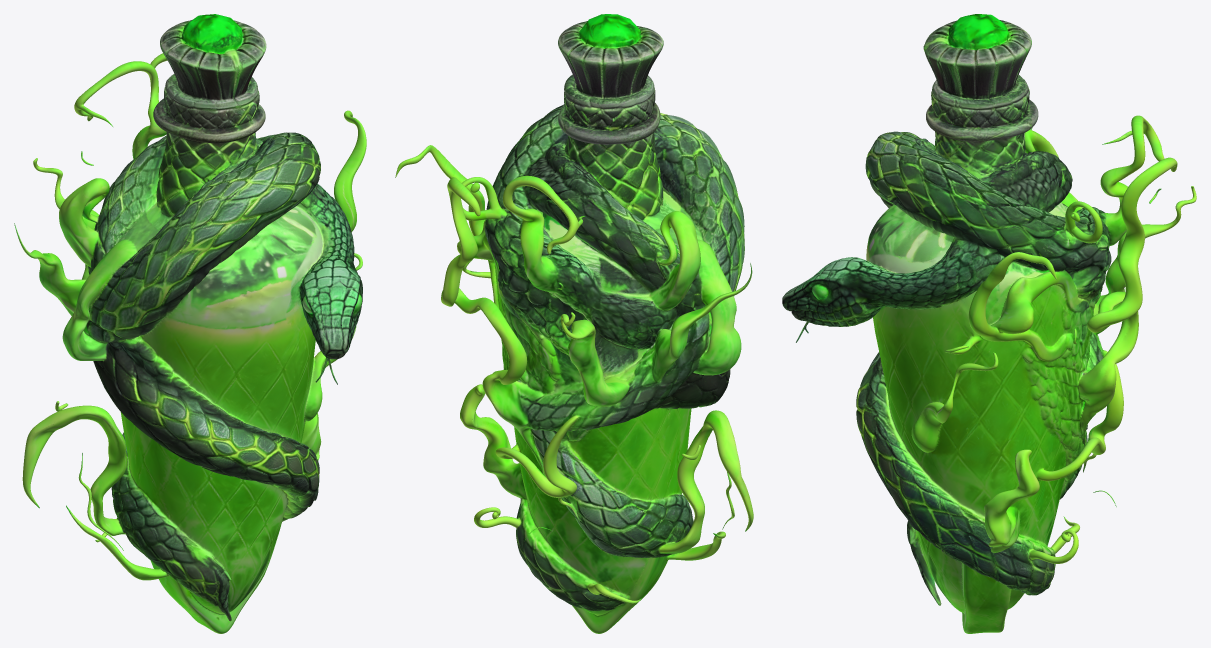
File: Meshy_AI_Snake_potion_0929030834_texture.fbx
The picture shows the model from 3 angles, left to right: view 1: azimuth 30°, elevation 25°; view 2: azimuth 150°, elevation 25°; view 3: azimuth 270°, elevation 25°; orthographic projection.
Parts seen in each view (by area): view 1: Mesh_0; view 2: Mesh_0; view 3: Mesh_0.
Part boxes in pixels (bbox=[...]): Mesh_0: bbox=[14, 14, 366, 633]; Mesh_0: bbox=[395, 14, 753, 633]; Mesh_0: bbox=[782, 14, 1196, 633].
Size of the model in its own units: 112 by 190 by 116.
Materials: 1 (1 with a texture image).
